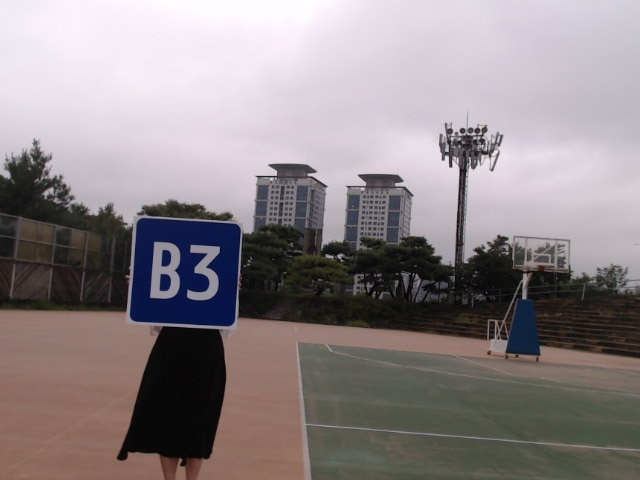delivery_b3: (130, 216, 240, 328)
